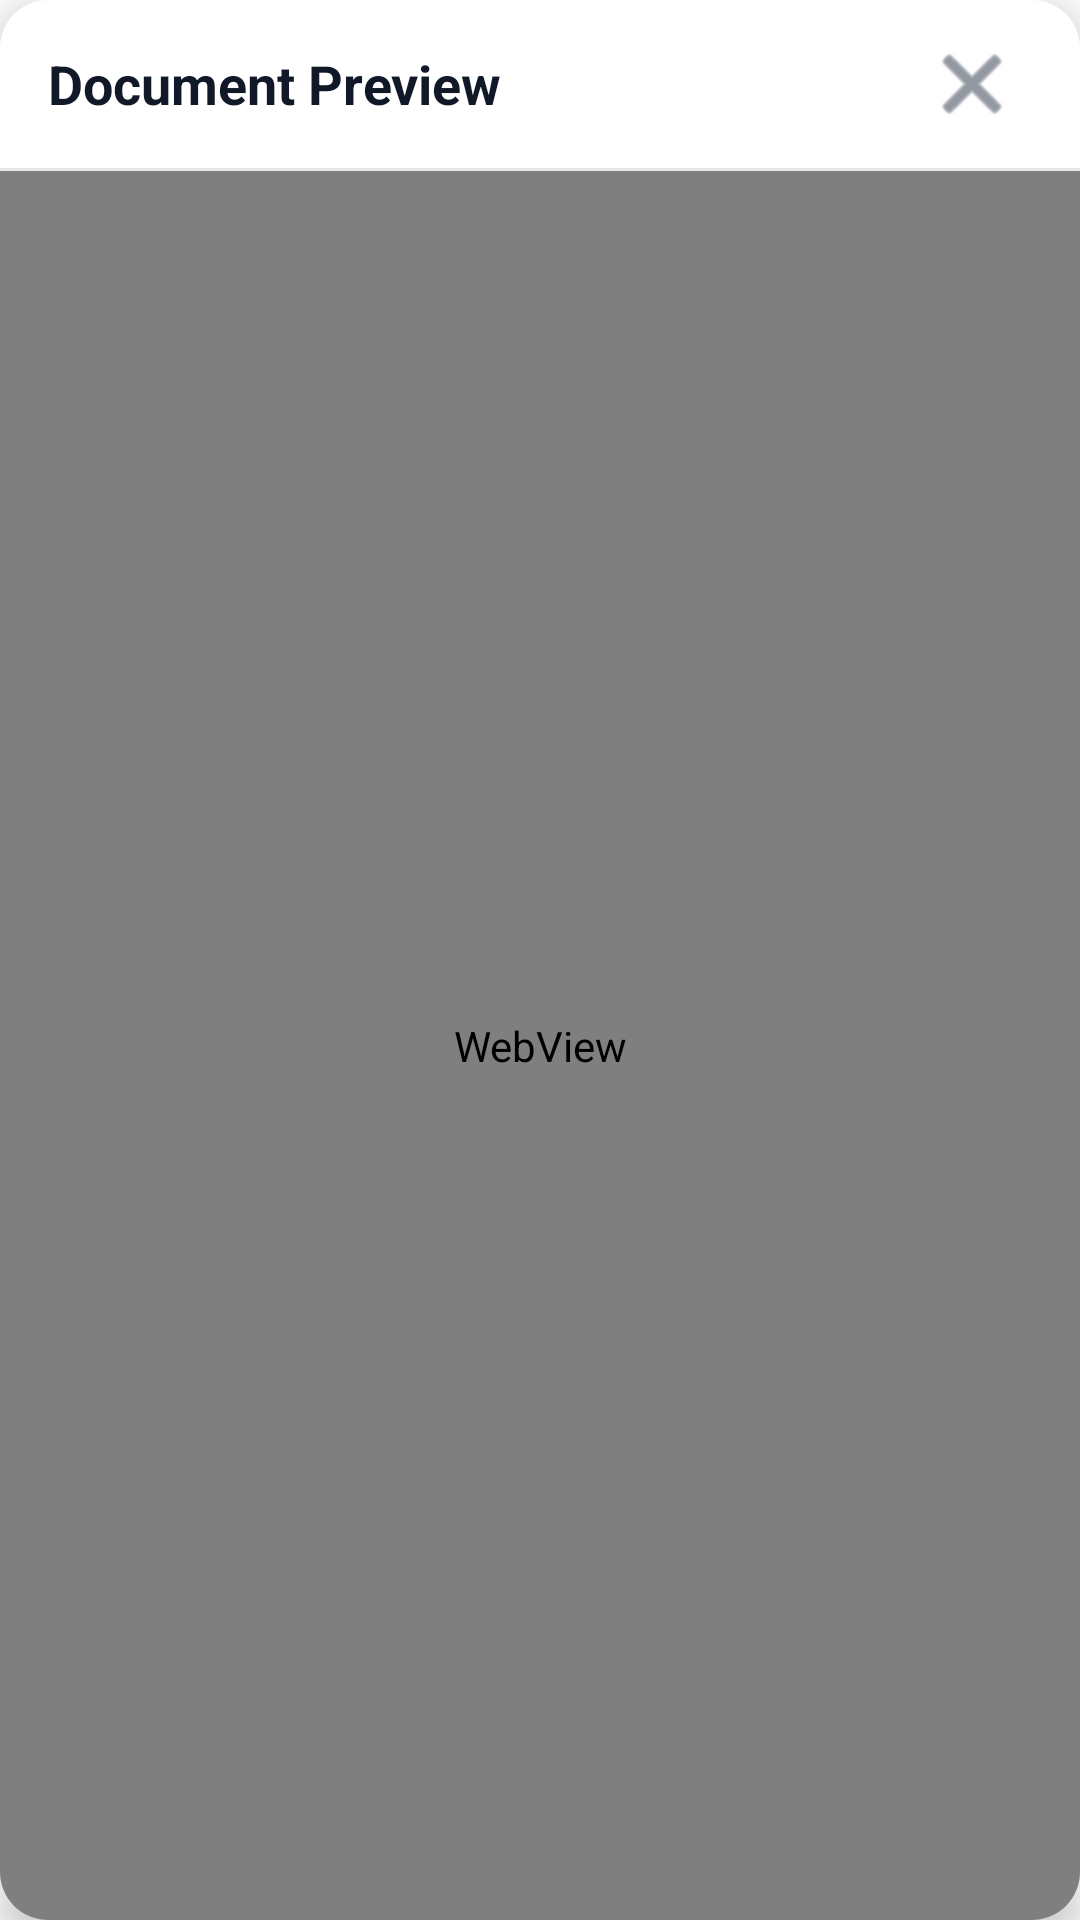

Named icons in this screenshot (1080*1920) and their bounding boxes, (x1, y1, x2, y2):
close clear cancel: (942, 54, 1002, 114)
